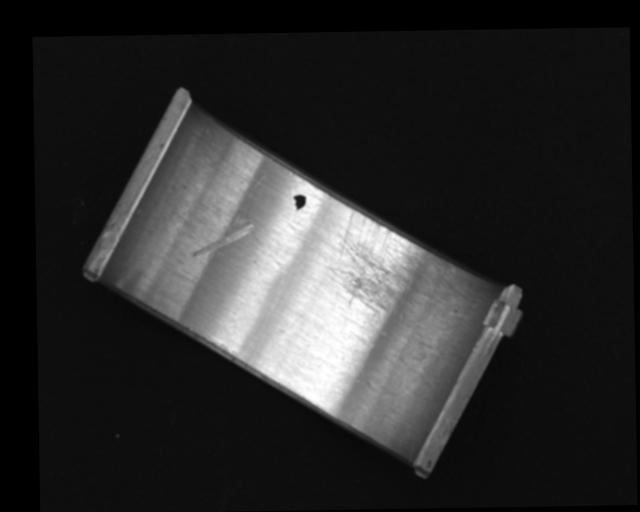blot: (293, 193, 306, 211)
nick: (191, 214, 255, 257), (245, 172, 271, 249)
scratch: (325, 205, 446, 315)
